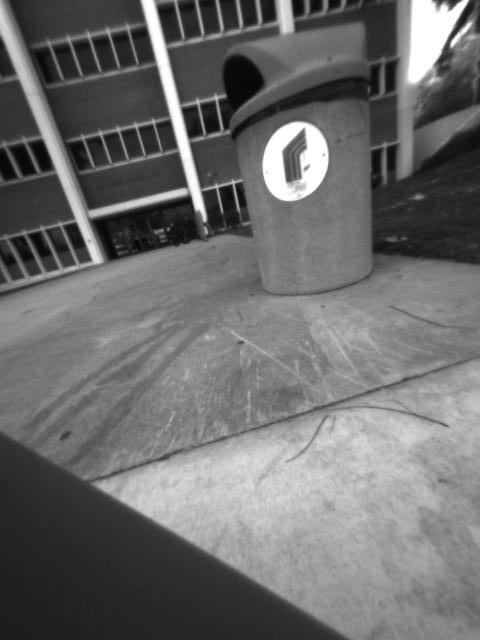trashcan: (224, 24, 390, 298)
